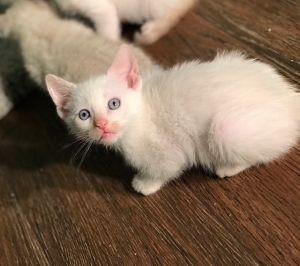siamese: (43, 40, 149, 157)
